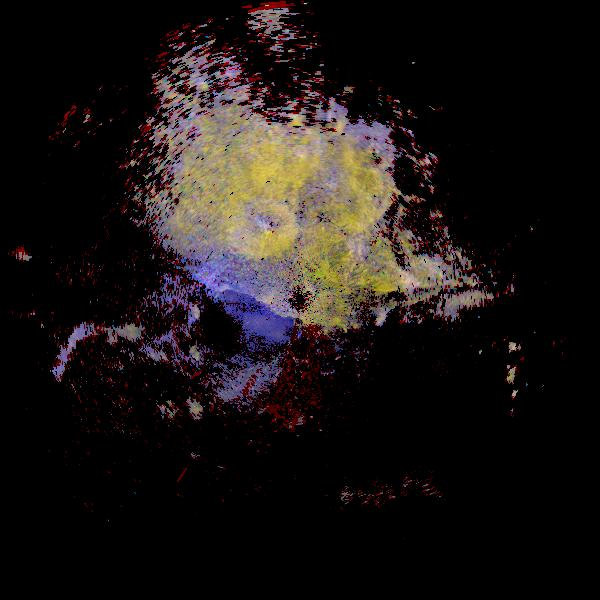roost: (38, 305, 170, 437), (217, 179, 304, 266)
